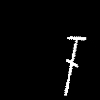double_crochet: (64, 36, 85, 94)
